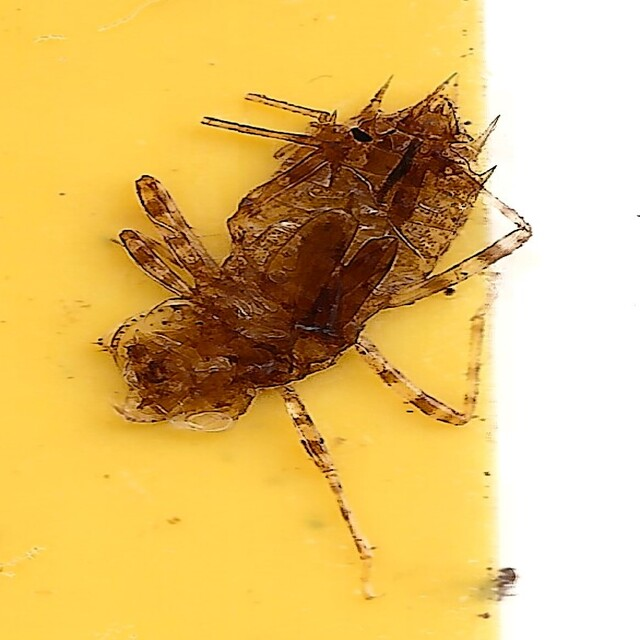Odonata: (109, 73, 531, 567)
